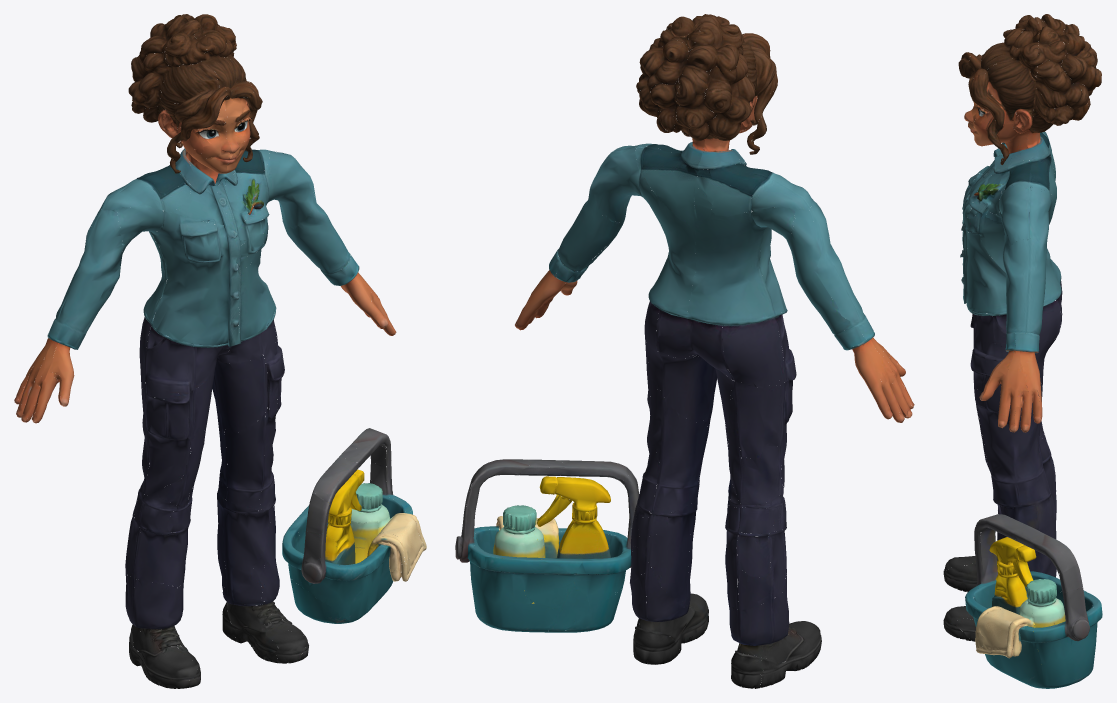
File: juniper-cleaner.glb
3 views of the same model, side by side, from view 1: azimuth 30°, elevation 25°; view 2: azimuth 150°, elevation 25°; view 3: azimuth 270°, elevation 25° (orthographic). The views are drawn at different scales.
Parts seen in each view (by area): view 1: tripo_node_5bb7b6e3-5357-4af4-ae7f-e7069e3f03d5; view 2: tripo_node_5bb7b6e3-5357-4af4-ae7f-e7069e3f03d5; view 3: tripo_node_5bb7b6e3-5357-4af4-ae7f-e7069e3f03d5.
Part boxes in pixels (<box>): tripo_node_5bb7b6e3-5357-4af4-ae7f-e7069e3f03d5: <box>14,14,426,688</box>; tripo_node_5bb7b6e3-5357-4af4-ae7f-e7069e3f03d5: <box>455,14,914,688</box>; tripo_node_5bb7b6e3-5357-4af4-ae7f-e7069e3f03d5: <box>943,14,1102,688</box>.
Bounding box in the file's own units: 0.6619 × 0.9784 × 0.2389.
Materials: 1 (1 with a texture image).
